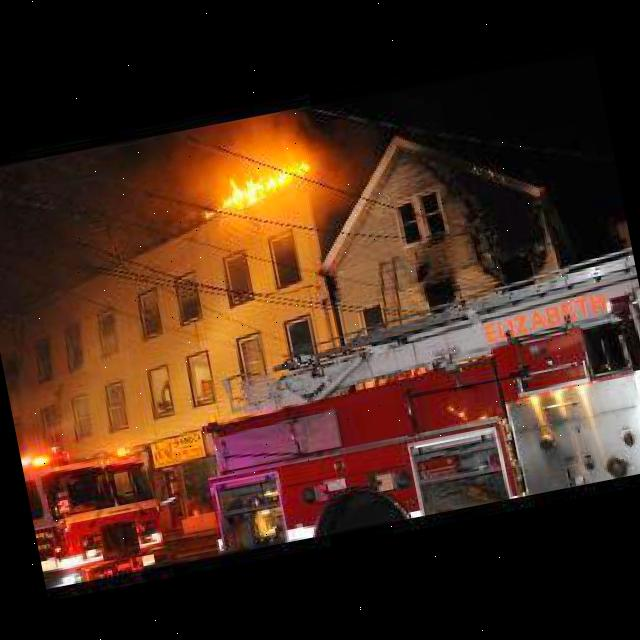fire: (207, 158, 316, 212)
